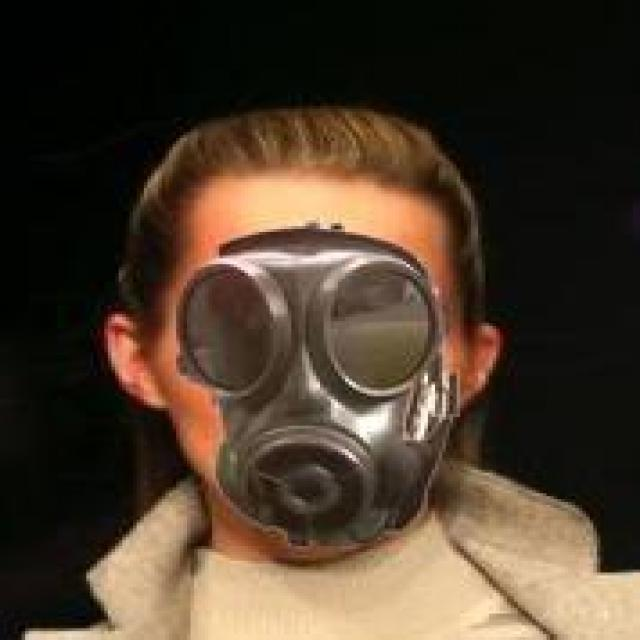mask: (79, 118, 550, 572)
